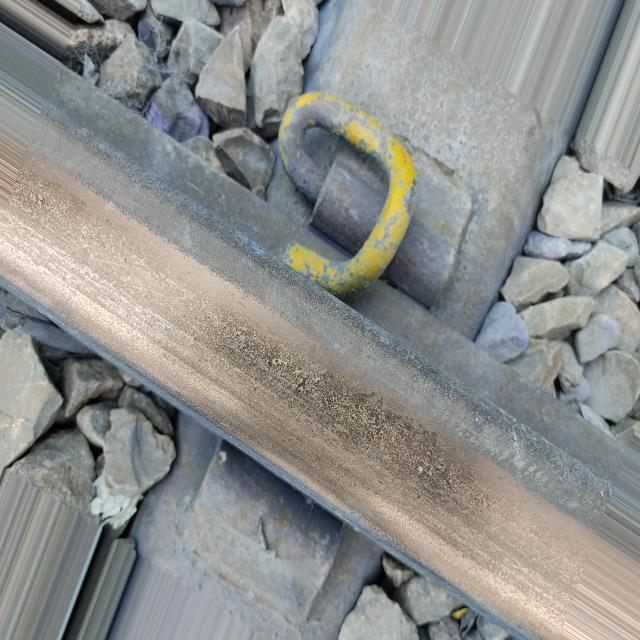Good Fasteners: (279, 92, 472, 307)
Missing Fastener: (185, 455, 339, 624)
